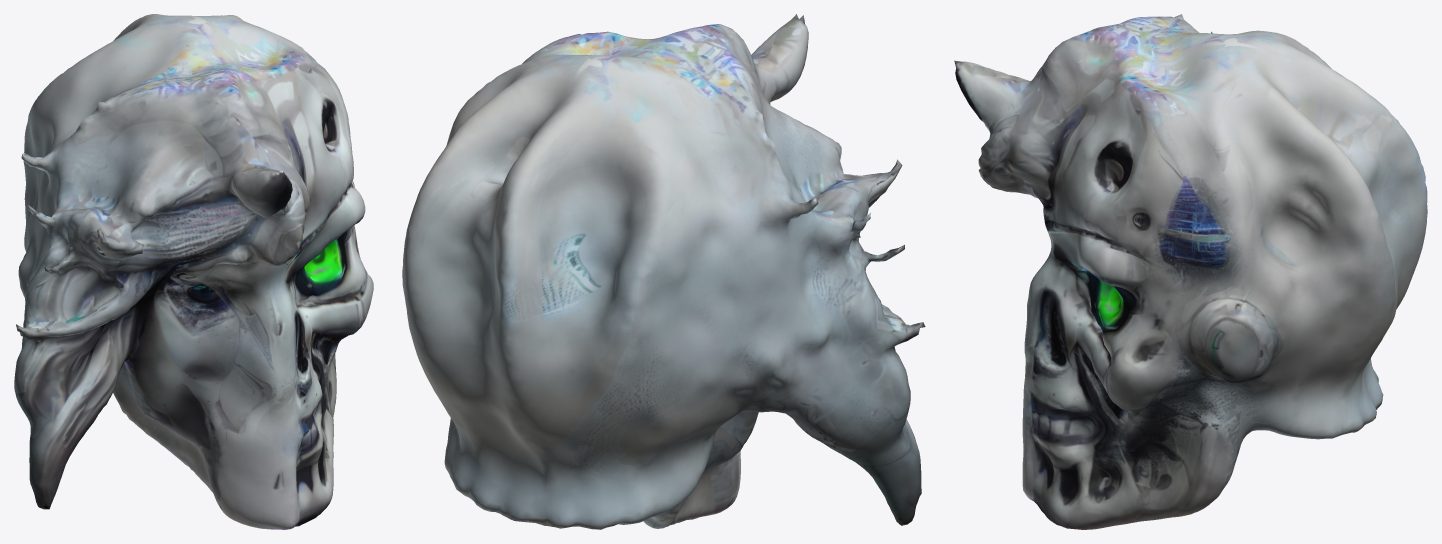
Rendered from DALL·E_2024_07_04_15_0704133225.obj.
3 views of the same model, side by side, from view 1: azimuth 30°, elevation 25°; view 2: azimuth 150°, elevation 25°; view 3: azimuth 270°, elevation 25° (orthographic). The views are drawn at different scales.
Parts seen in each view (by area): view 1: Mesh_0; view 2: Mesh_0; view 3: Mesh_0.
Boxes of the visible parts, x1,y1,x2,y2 form: Mesh_0: [14, 14, 373, 529]; Mesh_0: [402, 14, 925, 529]; Mesh_0: [954, 14, 1427, 529].
Size of the model in its own units: 1.1 by 1.2 by 1.1.
1 material, 1 textured.
